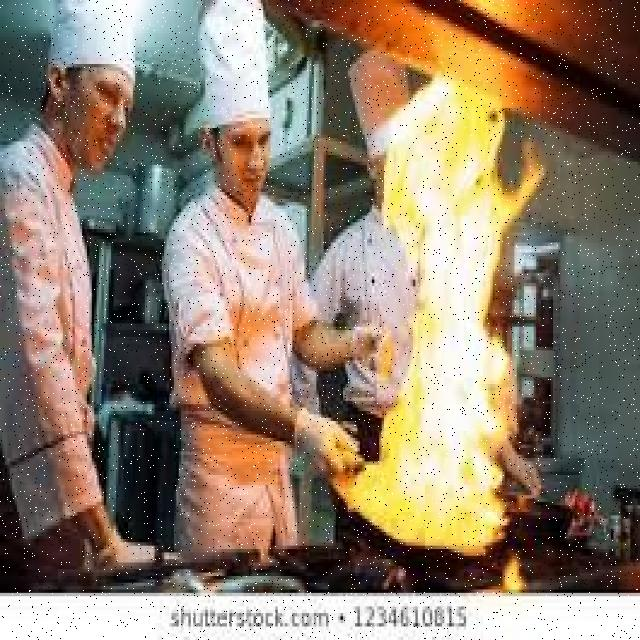fire: (379, 84, 527, 564)
